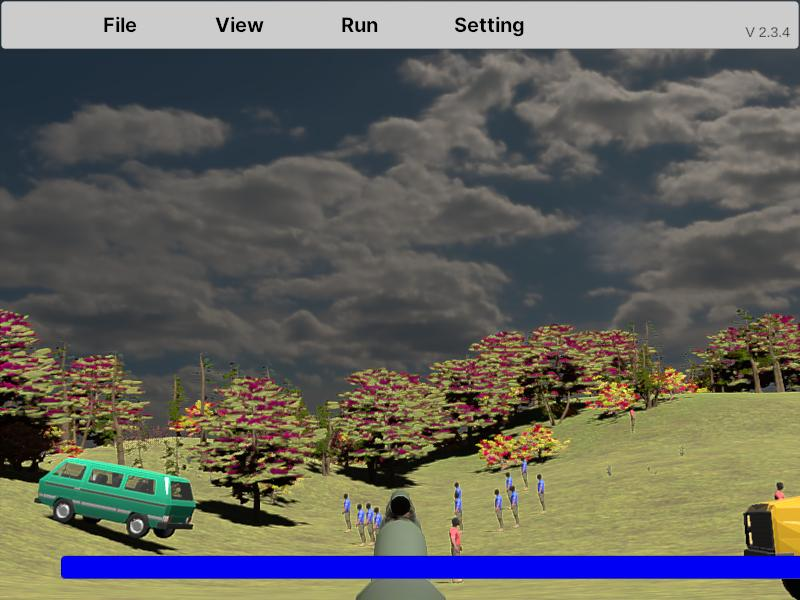Human: (449, 517, 463, 581)
car: (35, 458, 196, 541), (742, 460, 800, 600)
